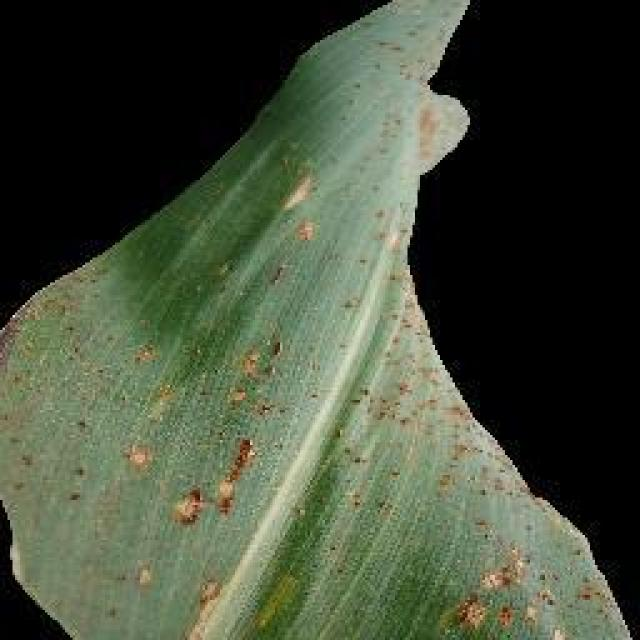Corn Common Rust: (132, 119, 563, 634)
